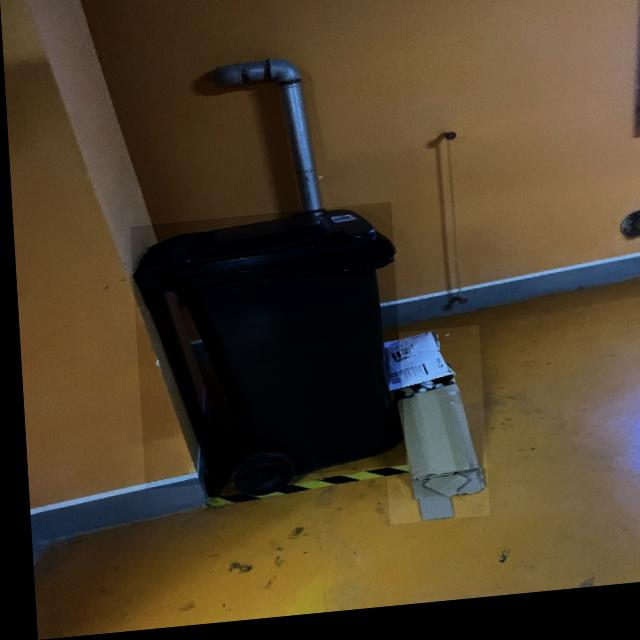garbage: (374, 334, 483, 532)
garbage_bin: (127, 209, 400, 492)
